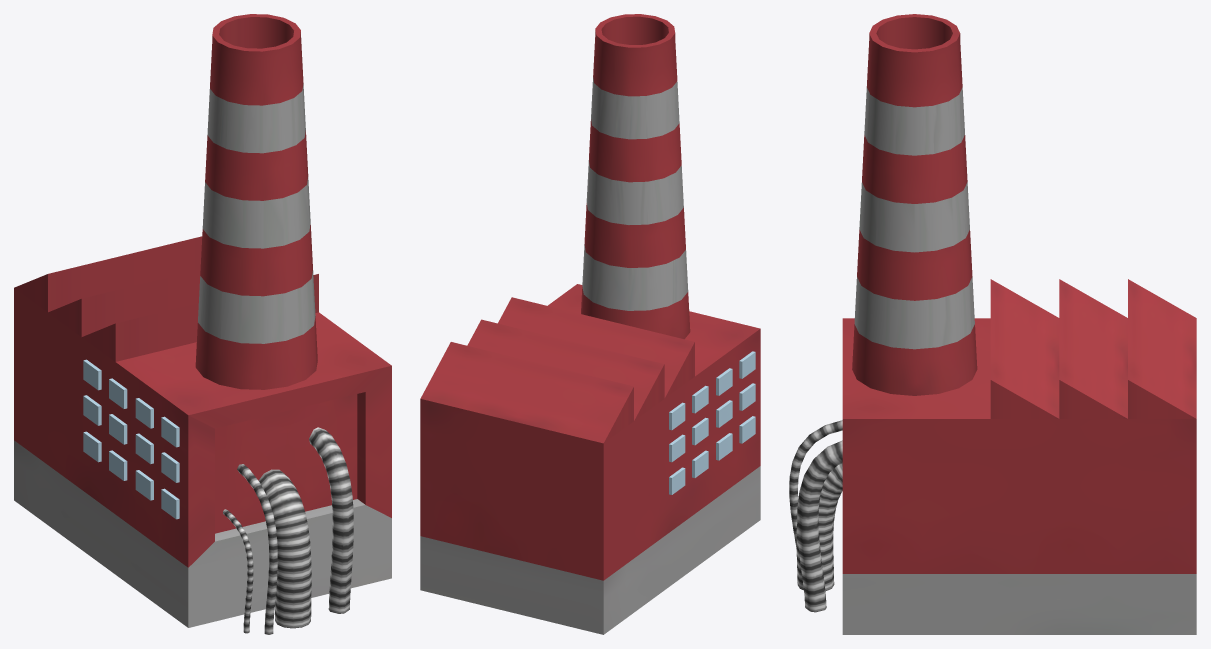
File: factorio.glb
3 views of the same model, side by side, from view 1: azimuth 30°, elevation 25°; view 2: azimuth 150°, elevation 25°; view 3: azimuth 270°, elevation 25° (orthographic). The views are drawn at different scales.
Parts seen in each view (by area): view 1: Fabrica; view 2: Fabrica; view 3: Fabrica.
Part boxes in pixels (box(x1,y1,x2,y2)): Fabrica: box(14, 14, 391, 634); Fabrica: box(420, 14, 760, 634); Fabrica: box(789, 14, 1196, 634).
Bounding box in the file's own units: 11.63 × 29.51 × 19.54.
Materials: 1 (1 with a texture image).
